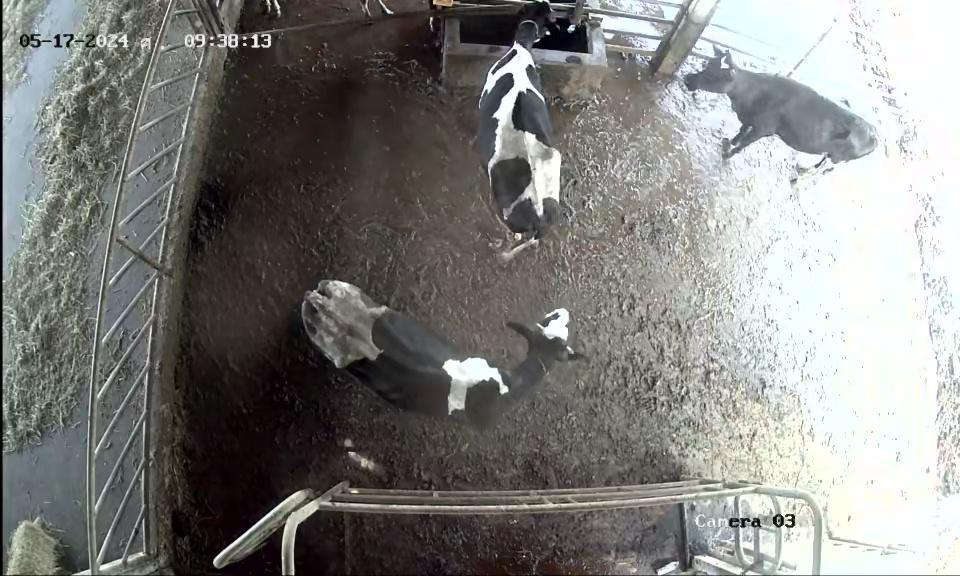drink: (467, 0, 574, 110)
lay: (298, 254, 600, 442)
stand: (683, 43, 888, 200)
